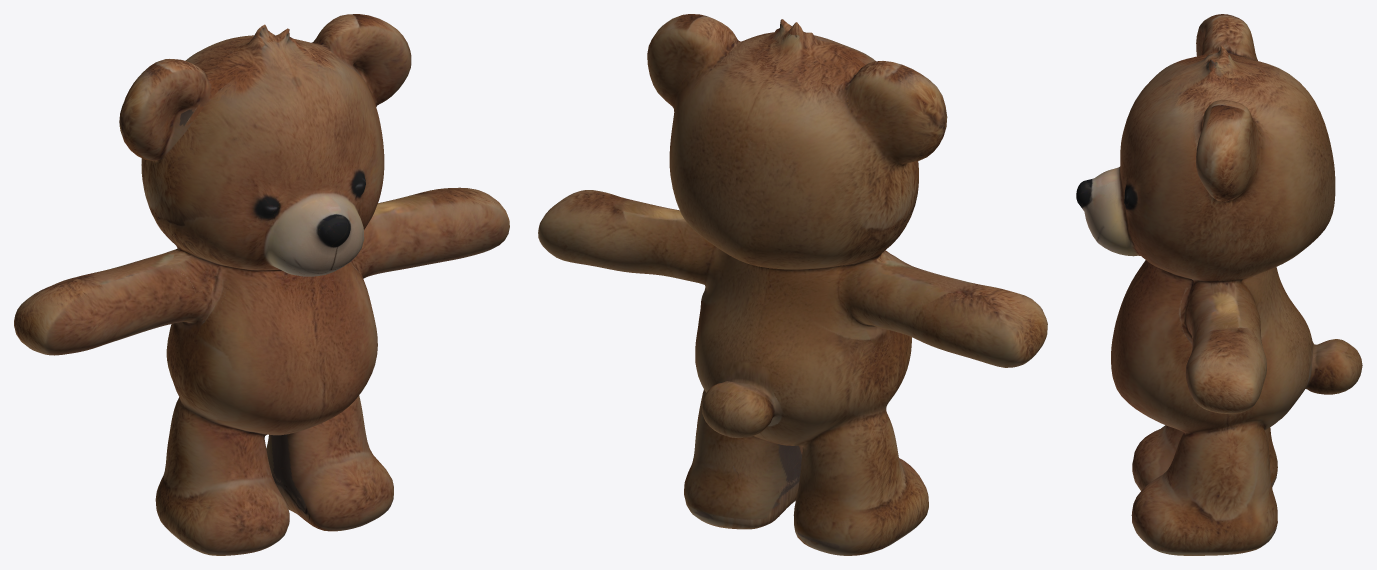
File: Teddy_Hug_0811134139_texture.fbx
3 renders of one model, left to right at view 1: azimuth 30°, elevation 25°; view 2: azimuth 150°, elevation 25°; view 3: azimuth 270°, elevation 25°, orthographic. The views are drawn at different scales.
Parts seen in each view (by area): view 1: Mesh_0; view 2: Mesh_0; view 3: Mesh_0.
Part boxes in pixels (x1=…): Mesh_0: x1=14, y1=14, x2=509, y2=555; Mesh_0: x1=538, y1=14, x2=1047, y2=555; Mesh_0: x1=1076, y1=14, x2=1362, y2=555.
Bounding box in the file's own units: 199 × 196 × 108.
Materials: 1 (1 with a texture image).
